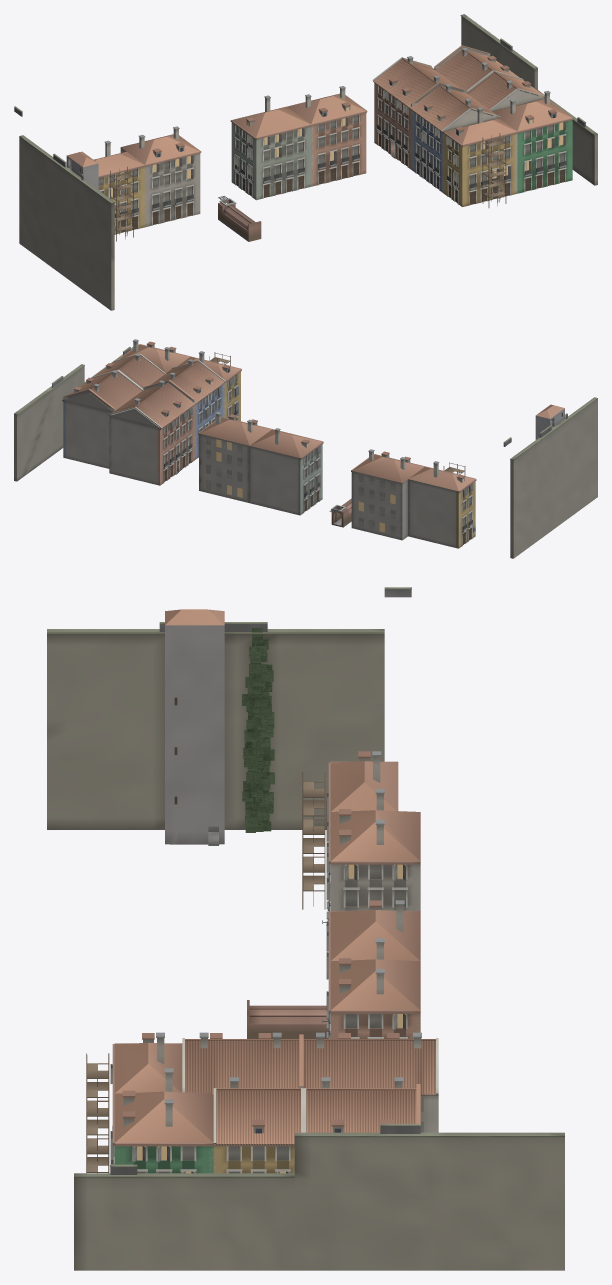
File: baixa_s.glb
3 views of the same model, one above another, from view 1: azimuth 30°, elevation 25°; view 2: azimuth 150°, elevation 25°; view 3: azimuth 270°, elevation 25° (orthographic). The views are drawn at different scales.
Parts seen in each view (by area): view 1: stairs_east_2, baixa_e_w4, baixa_f_w6, baixa_f_e1, baixa_w_e1, baixa_e_e1, baixa_f_w4, baixa_f_w5, baixa_w_w4, baixa_f_e3, baixa_f_e2, judiaria_west_2 (+5 smaller); view 2: stairs_east_2, baixa_f_w4, baixa_e_w4, baixa_w_w4, baixa_f_e3, baixa_w_e1, baixa_e_e1, judiaria_west_2, baixa_f_w5, baixa_f_w6, baixa_f_e2, baixa_f_e1 (+1 smaller); view 3: stairs_east_2, judiaria_west_2, judiaria_west_1, stairs_towers_1, baixa_w_e1, baixa_f_e1, baixa_f_w4, baixa_f_e2, baixa_e_e1, baixa_f_w5, stairs_ivy_1, baixa_f_e3 (+6 smaller).
Part boxes in pixels (x1,y1,x2,y2): stairs_east_2: [19, 135, 114, 310]; baixa_e_w4: [230, 95, 311, 200]; baixa_f_w6: [443, 107, 517, 206]; baixa_f_e1: [492, 90, 573, 193]; baixa_w_e1: [120, 126, 201, 227]; baixa_e_e1: [287, 86, 367, 186]; baixa_f_w4: [372, 56, 467, 170]; baixa_f_w5: [411, 84, 500, 193]; baixa_w_w4: [94, 140, 145, 234]; baixa_f_e3: [434, 45, 522, 90]; baixa_f_e2: [467, 71, 544, 115]; judiaria_west_2: [460, 14, 537, 90]; stairs_east_2: [510, 397, 597, 558]; baixa_f_w4: [108, 379, 196, 485]; baixa_e_w4: [249, 428, 323, 515]; baixa_w_w4: [408, 461, 476, 548]; baixa_f_e3: [62, 370, 143, 468]; baixa_w_e1: [351, 449, 424, 540]; baixa_e_e1: [198, 412, 271, 502]; judiaria_west_2: [14, 364, 84, 481]; baixa_f_w5: [151, 359, 225, 459]; baixa_f_w6: [178, 351, 241, 421]; baixa_f_e2: [92, 353, 165, 389]; baixa_f_e1: [118, 339, 190, 372]; stairs_east_2: [47, 629, 384, 829]; judiaria_west_2: [294, 1132, 564, 1270]; judiaria_west_1: [74, 1173, 294, 1270]; stairs_towers_1: [165, 609, 224, 845]; baixa_w_e1: [326, 789, 420, 921]; baixa_f_e1: [110, 1068, 213, 1173]; baixa_f_w4: [299, 1032, 438, 1132]; baixa_f_e2: [213, 1077, 303, 1173]; baixa_e_e1: [326, 938, 420, 1038]; baixa_f_w5: [182, 1032, 299, 1094]; stairs_ivy_1: [242, 628, 274, 832]; baixa_f_e3: [303, 1077, 420, 1132].
Size of the model in its own units: 117 by 33.58 by 57.5.
